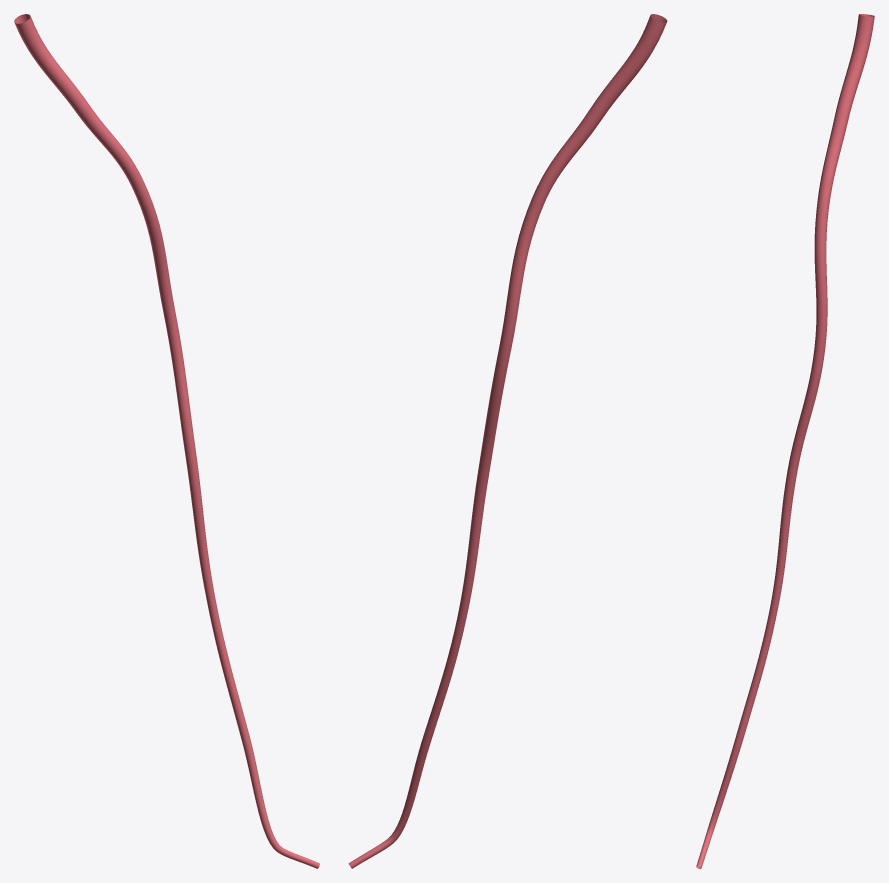
The picture shows the model from 3 angles, left to right: view 1: azimuth 30°, elevation 25°; view 2: azimuth 210°, elevation 25°; view 3: azimuth 270°, elevation 25°; orthographic projection. The views are drawn at different scales.
Visible parts, largest first — view 1: ZA_dfd7735f3f7fa3c0; view 2: ZA_dfd7735f3f7fa3c0; view 3: ZA_dfd7735f3f7fa3c0.
Boxes of the visible parts, x1,y1,x2,y2 form: ZA_dfd7735f3f7fa3c0: (14, 14, 319, 868); ZA_dfd7735f3f7fa3c0: (348, 14, 667, 868); ZA_dfd7735f3f7fa3c0: (696, 14, 874, 868).
Bounding box in the file's own units: 0.0556 × 0.2081 × 0.044.
